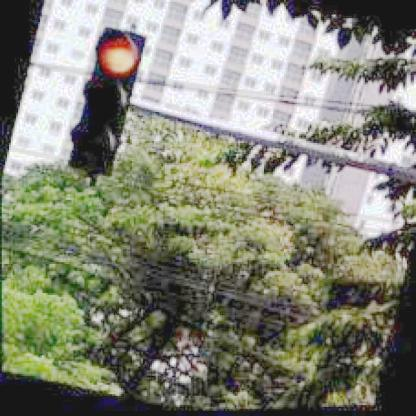Traffic Light -Red-: (64, 27, 149, 178)
